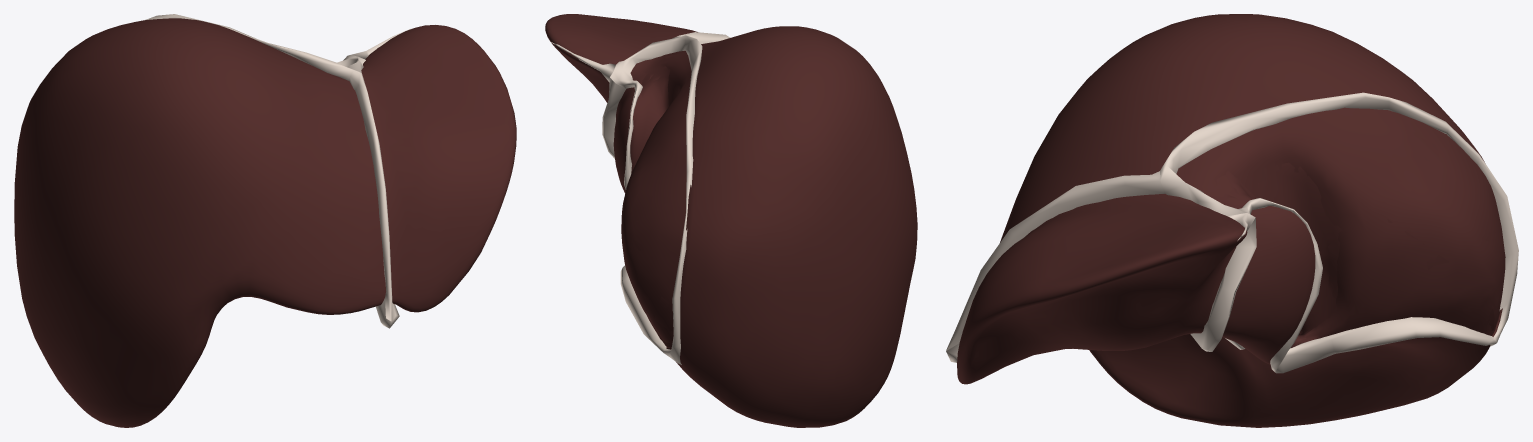
The model's file is VH_M_Liver.glb.
3 renders of one model, left to right at view 1: azimuth 30°, elevation 25°; view 2: azimuth 150°, elevation 25°; view 3: azimuth 270°, elevation 25°, orthographic. The views are drawn at different scales.
Size of the model in its own units: 0.1913 by 0.1746 by 0.2018.
